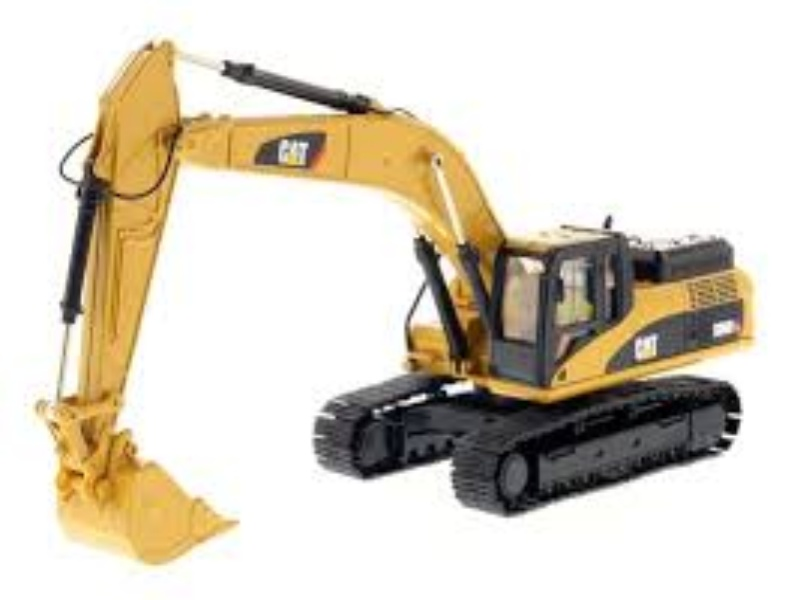wajueji: (302, 103, 800, 556)
